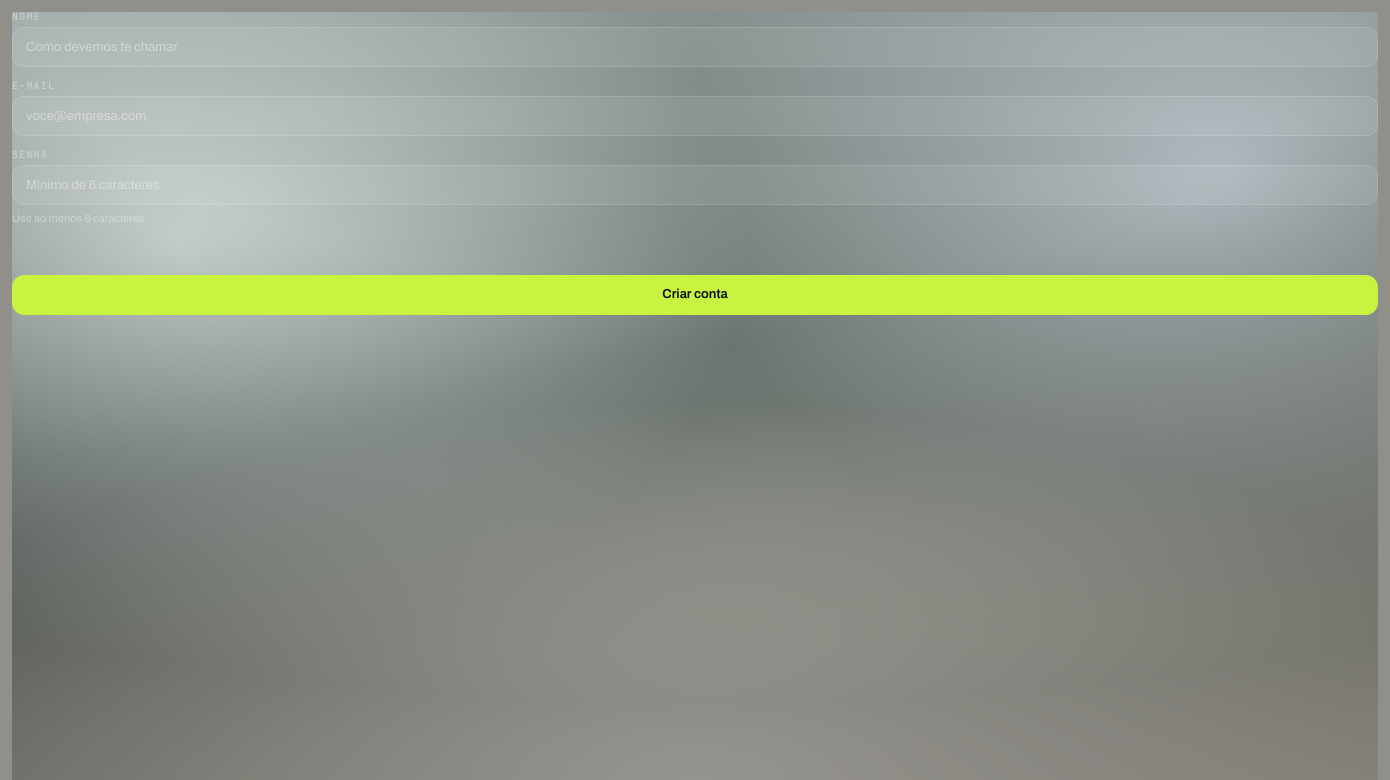
Test: RegisterForm › mostra o erro de validação devolvido pela rota sem inventar detalhes
This screenshot has width=1390, height=780.
Step 1. Type "Maria Souza" into the field labelled "Nome" → {"x": 695, "y": 47}, box top-left (12, 27), bottom-right (1378, 67)
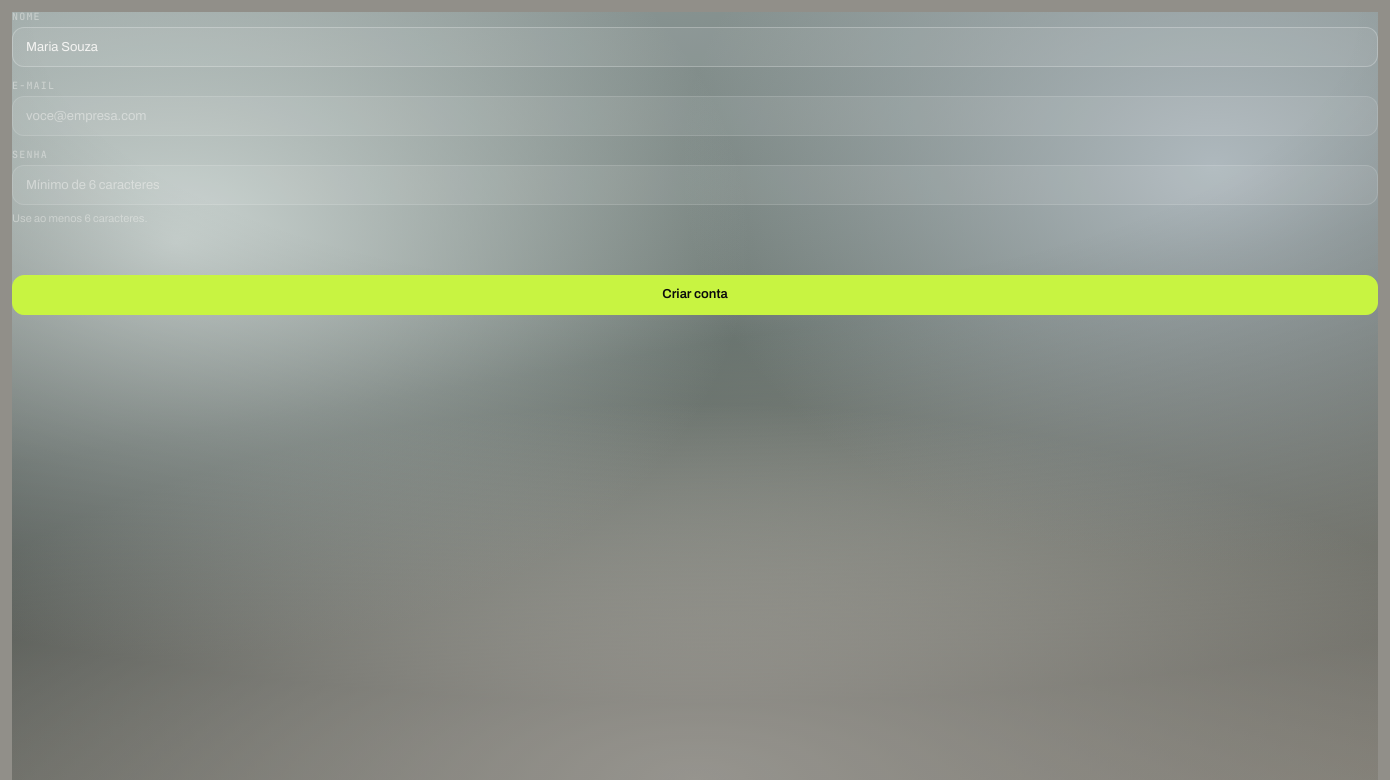
Step 2. Type "novo@empresa.com" into the field labelled "E-mail" → {"x": 695, "y": 116}, box top-left (12, 96), bottom-right (1378, 136)
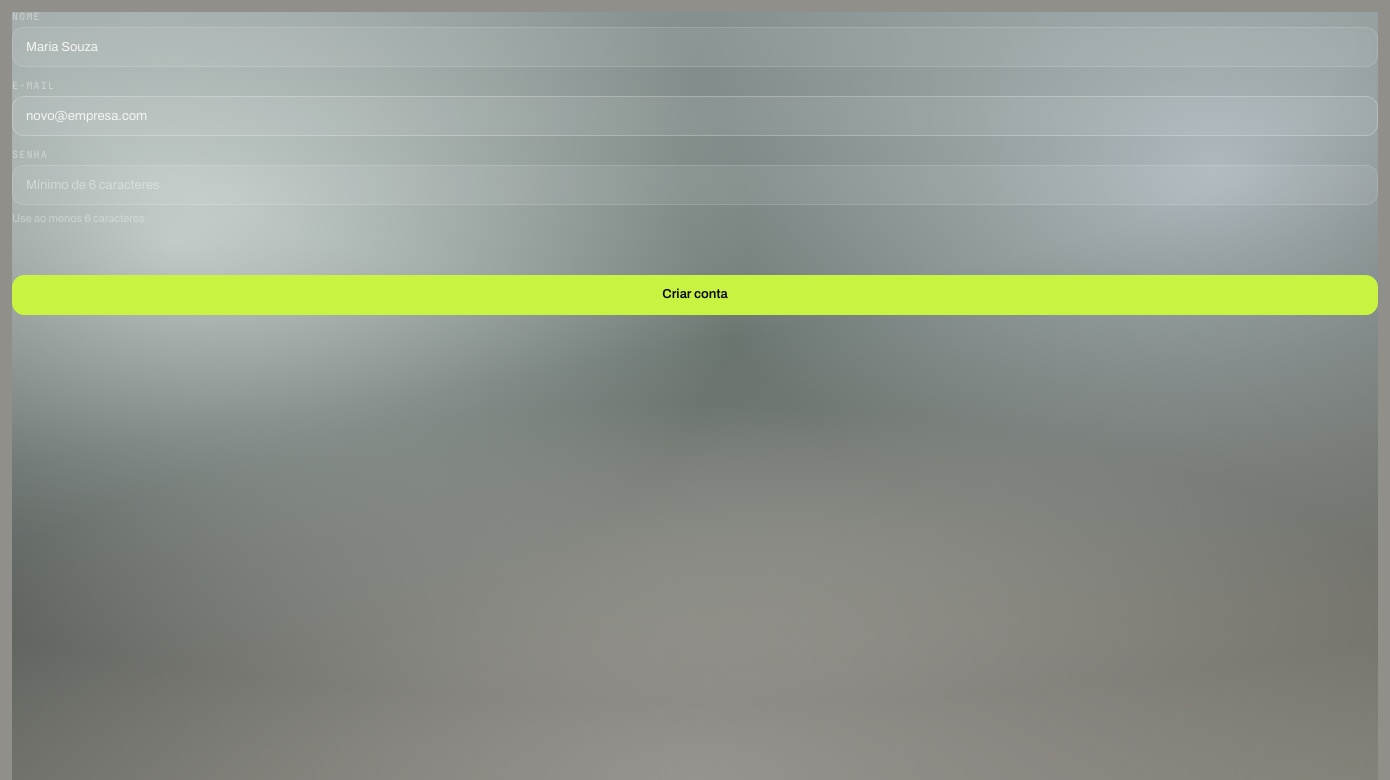
Step 3. Type "senha-forte-1" into the password field labelled "Senha" → {"x": 695, "y": 185}, box top-left (12, 165), bottom-right (1378, 205)
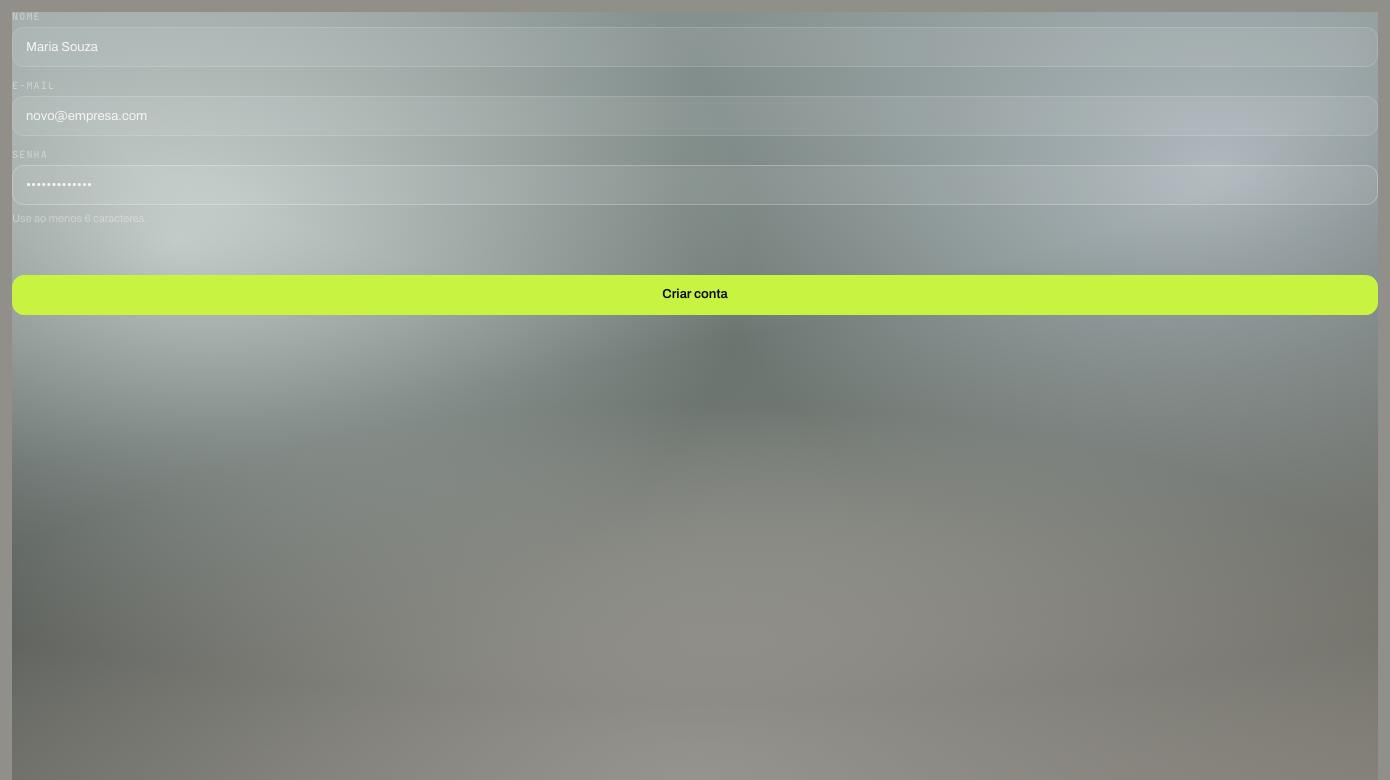
Step 4. Click the button "Criar conta" → {"x": 695, "y": 294}, box top-left (12, 274), bottom-right (1378, 314)
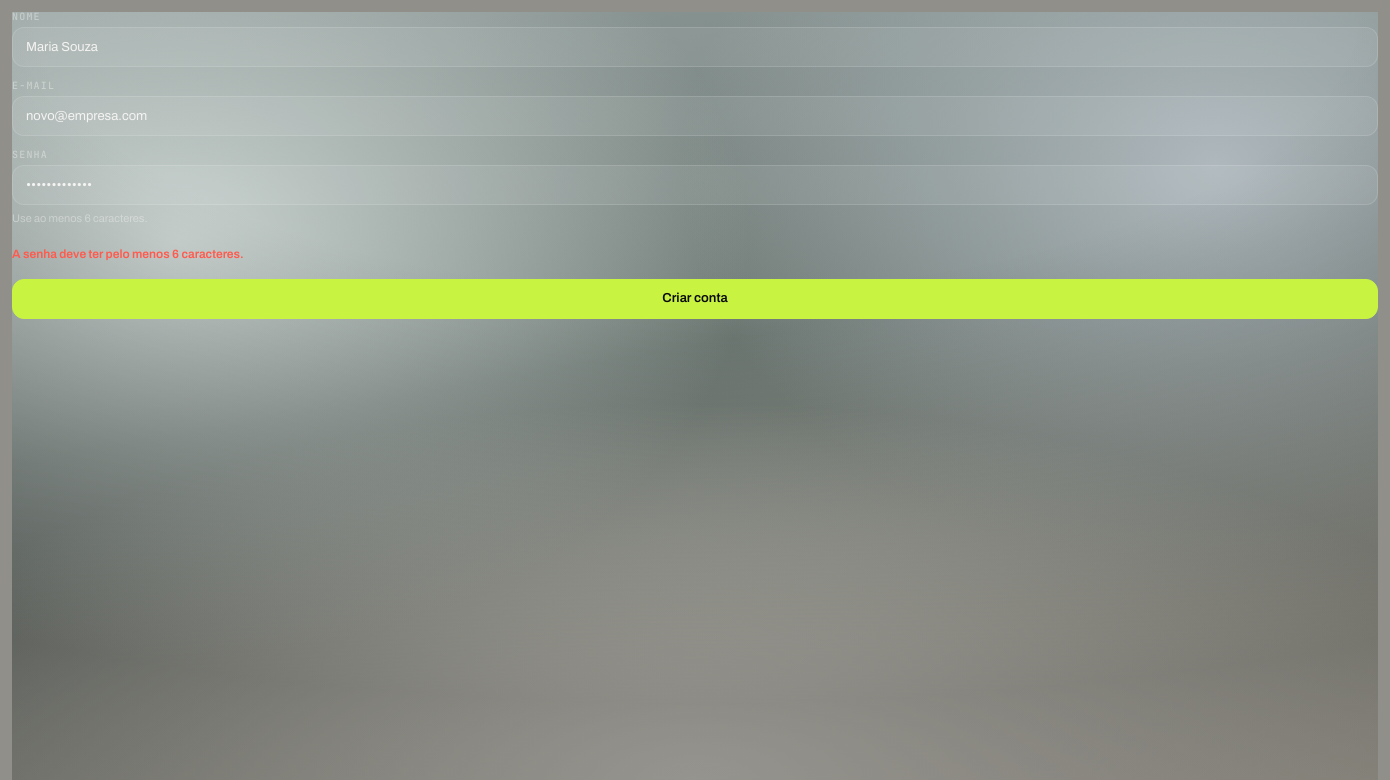
expect the element showing "A senha deve ter pelo menos 6 caracteres." is shown: met, box top-left (12, 246), bottom-right (244, 260)
